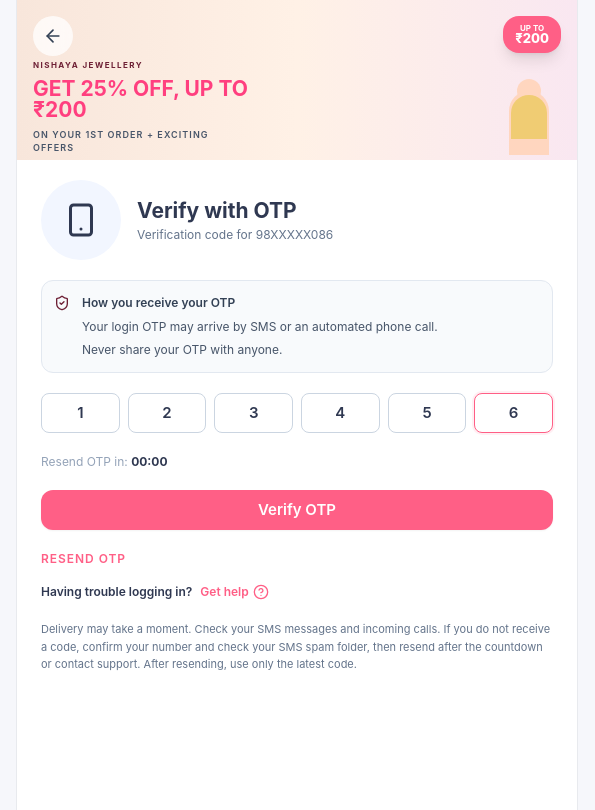
Test case: customer login › resend clears the superseded code and uses the server cooldown
This screenshot has width=595, height=810.
Click the button "Resend OTP" at {"x": 84, "y": 559}, box [41, 550, 126, 567]
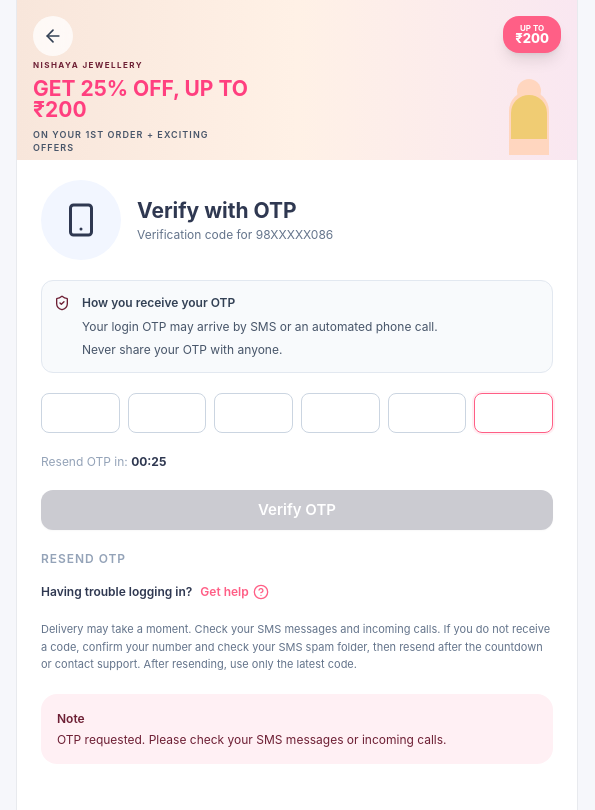
Check: the text "00:25" is shown, box [131, 454, 166, 468]
Check: the text "OTP requested. Please check your SMS messages or incoming calls." is shown, box [57, 732, 446, 747]
Check: the button "Verify OTP" is disabled, box [41, 490, 553, 530]
